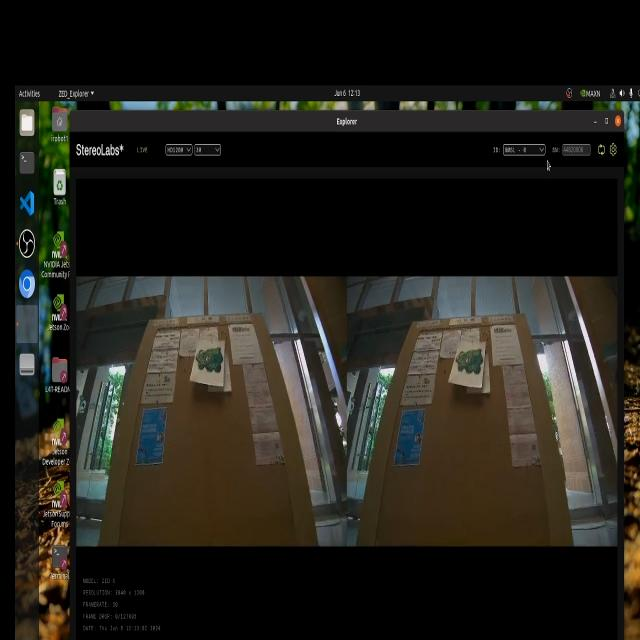green: (440, 341, 484, 384), (194, 342, 217, 384)
